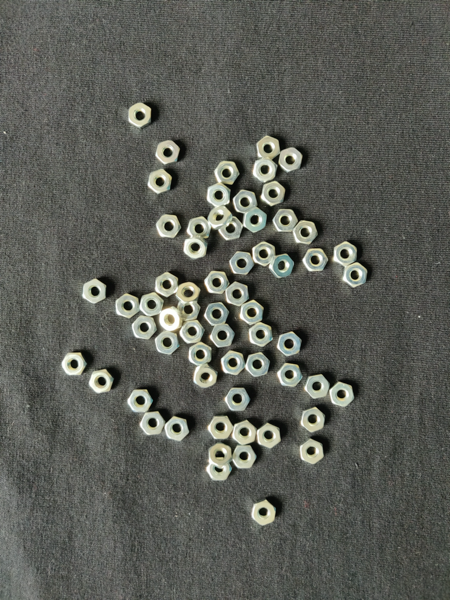nut: (251, 499, 276, 526), (300, 438, 325, 465), (208, 415, 235, 440), (257, 423, 282, 449), (301, 407, 326, 433), (330, 382, 355, 408), (304, 374, 330, 399), (277, 363, 303, 388), (159, 306, 184, 332), (333, 241, 358, 267), (253, 157, 278, 183), (155, 214, 182, 238), (165, 417, 190, 442), (232, 421, 257, 446), (221, 351, 246, 376), (277, 332, 302, 357), (155, 330, 180, 355), (225, 282, 250, 307), (176, 282, 201, 307), (343, 263, 368, 288), (208, 206, 233, 231), (215, 161, 240, 186), (148, 170, 173, 195), (155, 140, 180, 165), (140, 412, 166, 436), (225, 388, 251, 412), (89, 370, 115, 394), (246, 352, 270, 378), (249, 322, 273, 348), (210, 324, 236, 348), (132, 316, 158, 340), (240, 300, 264, 326), (269, 254, 295, 278), (293, 221, 319, 245), (262, 181, 286, 207), (279, 148, 303, 174), (209, 443, 232, 470), (244, 207, 267, 234), (232, 445, 257, 469), (194, 364, 218, 389), (116, 294, 140, 319), (83, 279, 107, 304), (205, 271, 230, 295), (273, 209, 298, 233), (303, 249, 329, 272), (128, 103, 151, 129), (140, 293, 164, 317), (184, 236, 208, 260), (219, 217, 243, 241), (257, 136, 281, 160), (128, 390, 153, 413), (62, 353, 87, 376), (189, 342, 212, 367), (180, 321, 205, 344), (204, 303, 229, 326), (155, 273, 178, 298), (230, 252, 255, 275), (253, 242, 276, 267), (233, 190, 258, 213), (208, 183, 231, 208), (187, 217, 213, 239), (206, 464, 232, 482), (177, 302, 201, 321)
